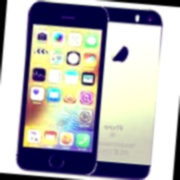iphone: (77, 5, 159, 177)
